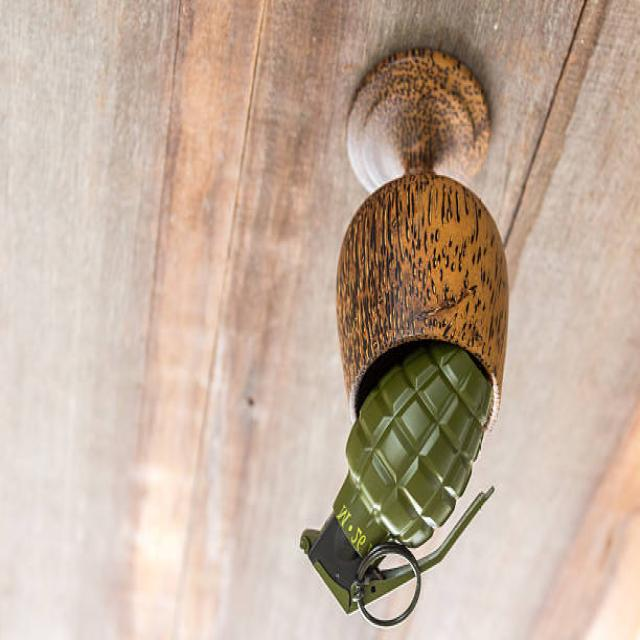grenade: (293, 349, 501, 636)
